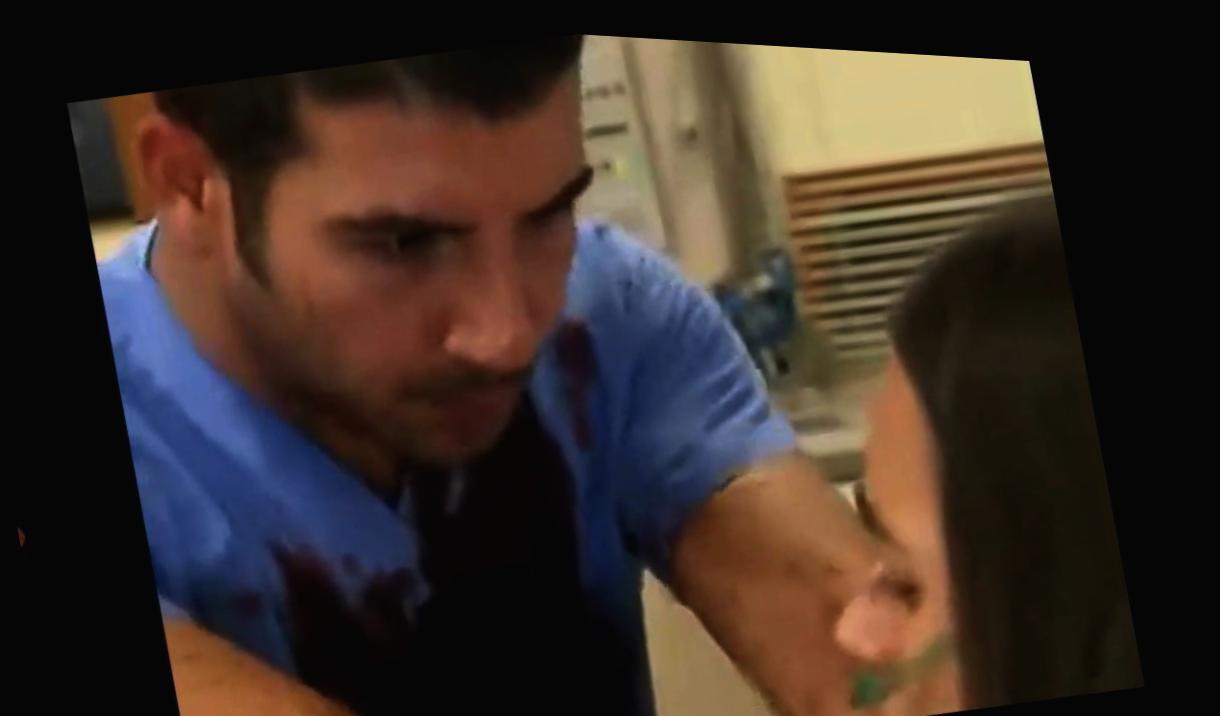Fire: (272, 385, 621, 716), (555, 311, 597, 443)
